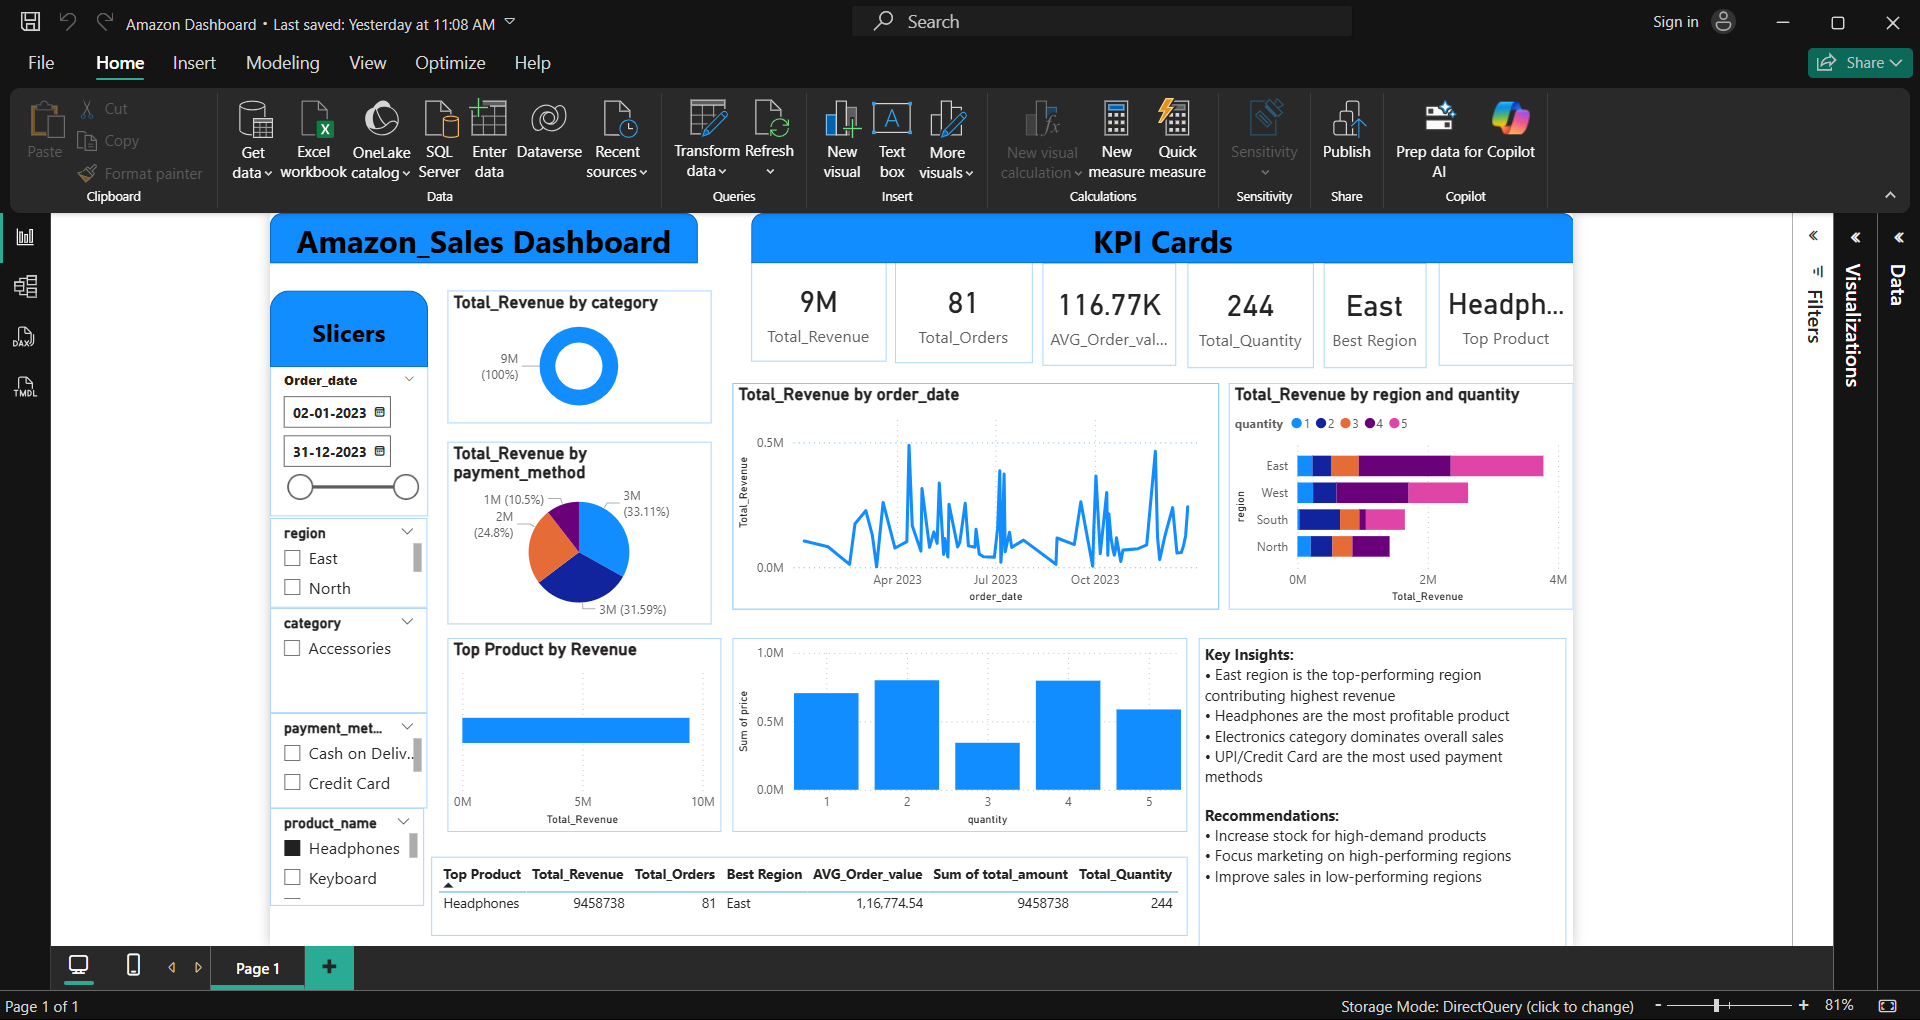

What the dashboard file says about the page in this screenshot:
{"tool":"powerbi","page":{"name":"Page 1","canvas":[1280,720],"ordinal":0},"visuals":[{"type":"card","fields":{"Values":["public amazon_sales.Total_Revenue"]},"box":[505,45.3,122.1,107],"z":0},{"type":"card","fields":{"Values":["public amazon_sales.Total_Quantity"]},"box":[912.2,42.8,122.3,111.3],"z":1},{"type":"card","fields":{"Values":["public amazon_sales.Orders"]},"box":[627.1,42.5,134.5,112.5],"z":2},{"type":"card","fields":{"Values":["public amazon_sales.Top Product"]},"box":[1130.7,45.3,149.6,102.9],"z":3},{"type":"card","fields":{"Values":["public amazon_sales.Best Region"]},"box":[1033.3,36.7,111.3,119.8],"z":4},{"type":"card","fields":{"Values":["public amazon_sales.AVG_Order_value"]},"box":[761.6,49.4,149.6,97.4],"z":5},{"type":"slicer","fields":{"Values":["public amazon_sales.order_date"]},"box":[0,149.6,155.1,148.2],"z":6},{"type":"shape","box":[0,0,419.9,49.4],"z":8},{"type":"shape","box":[0,75.5,155.1,75.5],"z":9},{"type":"shape","box":[472,0,808.2,49.4],"z":10},{"type":"slicer","fields":{"Values":["public amazon_sales.region"]},"box":[0,299.1,145.5,89.2],"z":11},{"type":"slicer","fields":{"Values":["public amazon_sales.category"]},"box":[0,388.3,149.6,102.9],"z":12},{"type":"barChart","fields":{"Category":["public amazon_sales.region"],"Y":["public amazon_sales.Total_Revenue"],"Series":["public amazon_sales.quantity"]},"box":[469.3,146.8,503.6,238.8],"z":13},{"type":"donutChart","fields":{"Category":["public amazon_sales.category"],"Y":["public amazon_sales.Total_Revenue"]},"box":[972.9,149.6,299.1,157.8],"z":14},{"type":"slicer","fields":{"Values":["public amazon_sales.payment_method"]},"box":[0,491.3,174.3,93.3],"z":15},{"type":"slicer","fields":{"Values":["public amazon_sales.product_name"]},"box":[0,596.9,150.9,82.3],"z":16},{"type":"pieChart","fields":{"Category":["public amazon_sales.payment_method"],"Y":["public amazon_sales.Total_Revenue"]},"box":[972.9,307.4,301.9,141.3],"z":17},{"type":"lineChart","fields":{"Category":["public amazon_sales.order_date"],"Y":["public amazon_sales.Total_Revenue"]},"box":[186.6,87.8,260.7,209.9],"z":18},{"type":"barChart","fields":{"Y":["public amazon_sales.Total_Revenue"]},"box":[225,344.4,260.7,244.3],"z":19},{"type":"clusteredColumnChart","fields":{"Category":["public amazon_sales.quantity"],"Y":["Sum(public amazon_sales.price)"]},"box":[500.9,376,388.3,231.9],"z":20},{"type":"tableEx","fields":{"Values":["public amazon_sales.Top Product","public amazon_sales.Total_Revenue","public amazon_sales.Total_Orders","public amazon_sales.Best Region","public amazon_sales.AVG_Order_value","Sum(public amazon_sales.total_amount)","public amazon_sales.Total_Quantity"]},"box":[149.6,614.8,742.4,76.8],"z":21},{"type":"textbox","box":[931.7,447.3,343.1,273.1],"z":22}]}

Visuals, with their boxes on the page's 1280x720 design canvas (x1, y1, x2, y2). These are canvas units, not pixel positions in the 1920x1020 screenshot, which may show the page scaled, cropped or inside an application window:
card - public amazon_sales.Total_Revenue: pyautogui.locateOnScreen(505, 45, 627, 152)
card - public amazon_sales.Total_Quantity: pyautogui.locateOnScreen(912, 43, 1034, 154)
card - public amazon_sales.Orders: pyautogui.locateOnScreen(627, 42, 762, 155)
card - public amazon_sales.Top Product: pyautogui.locateOnScreen(1131, 45, 1280, 148)
card - public amazon_sales.Best Region: pyautogui.locateOnScreen(1033, 37, 1145, 156)
card - public amazon_sales.AVG_Order_value: pyautogui.locateOnScreen(762, 49, 911, 147)
slicer - public amazon_sales.order_date: pyautogui.locateOnScreen(0, 150, 155, 298)
shape: pyautogui.locateOnScreen(0, 0, 420, 49)
shape: pyautogui.locateOnScreen(0, 76, 155, 151)
shape: pyautogui.locateOnScreen(472, 0, 1280, 49)
slicer - public amazon_sales.region: pyautogui.locateOnScreen(0, 299, 146, 388)
slicer - public amazon_sales.category: pyautogui.locateOnScreen(0, 388, 150, 491)
barChart - public amazon_sales.region x public amazon_sales.Total_Revenue: pyautogui.locateOnScreen(469, 147, 973, 386)
donutChart - public amazon_sales.category x public amazon_sales.Total_Revenue: pyautogui.locateOnScreen(973, 150, 1272, 307)
slicer - public amazon_sales.payment_method: pyautogui.locateOnScreen(0, 491, 174, 585)
slicer - public amazon_sales.product_name: pyautogui.locateOnScreen(0, 597, 151, 679)
pieChart - public amazon_sales.payment_method x public amazon_sales.Total_Revenue: pyautogui.locateOnScreen(973, 307, 1275, 449)
lineChart - public amazon_sales.order_date x public amazon_sales.Total_Revenue: pyautogui.locateOnScreen(187, 88, 447, 298)
barChart - public amazon_sales.Total_Revenue: pyautogui.locateOnScreen(225, 344, 486, 589)
clusteredColumnChart - public amazon_sales.quantity x Sum(public amazon_sales.price): pyautogui.locateOnScreen(501, 376, 889, 608)
tableEx - public amazon_sales.Top Product x public amazon_sales.Total_Revenue: pyautogui.locateOnScreen(150, 615, 892, 692)
textbox: pyautogui.locateOnScreen(932, 447, 1275, 720)
